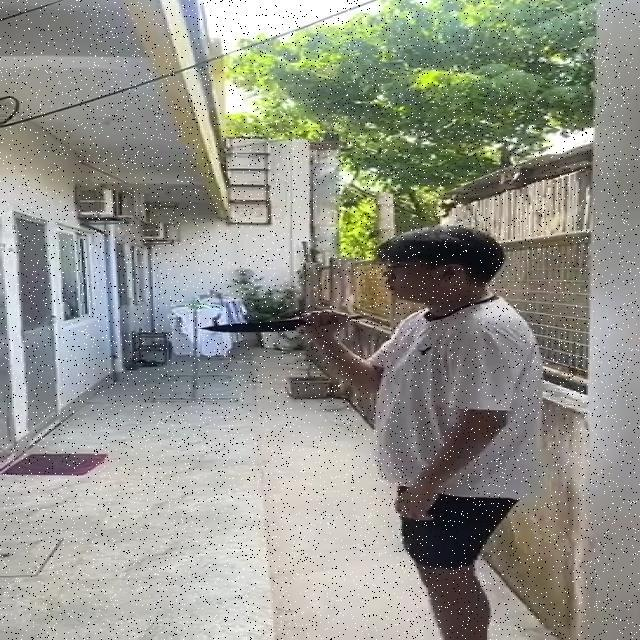knife: (200, 318, 304, 332)
non-violence: (202, 228, 542, 637)
